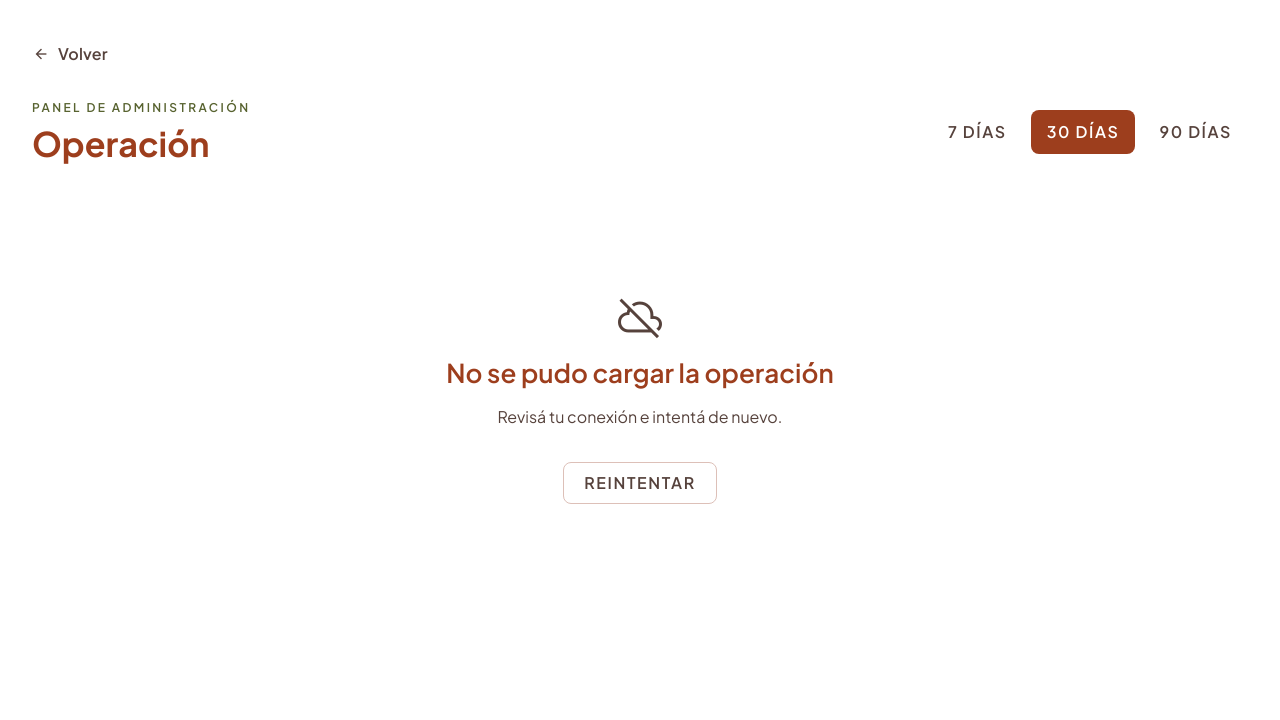
Test: AdminOperacion › estado de error de carga › Reintentar vuelve a pedir, y el fetch exitoso limpia el error
This screenshot has width=1280, height=720.
Expected: the heading "No se pudo cargar la operación" is shown, x1=446 y1=357 x2=834 y2=390
Click the button "Reintentar". click: (640, 483)
box: x1=563 y1=462 x2=717 y2=504
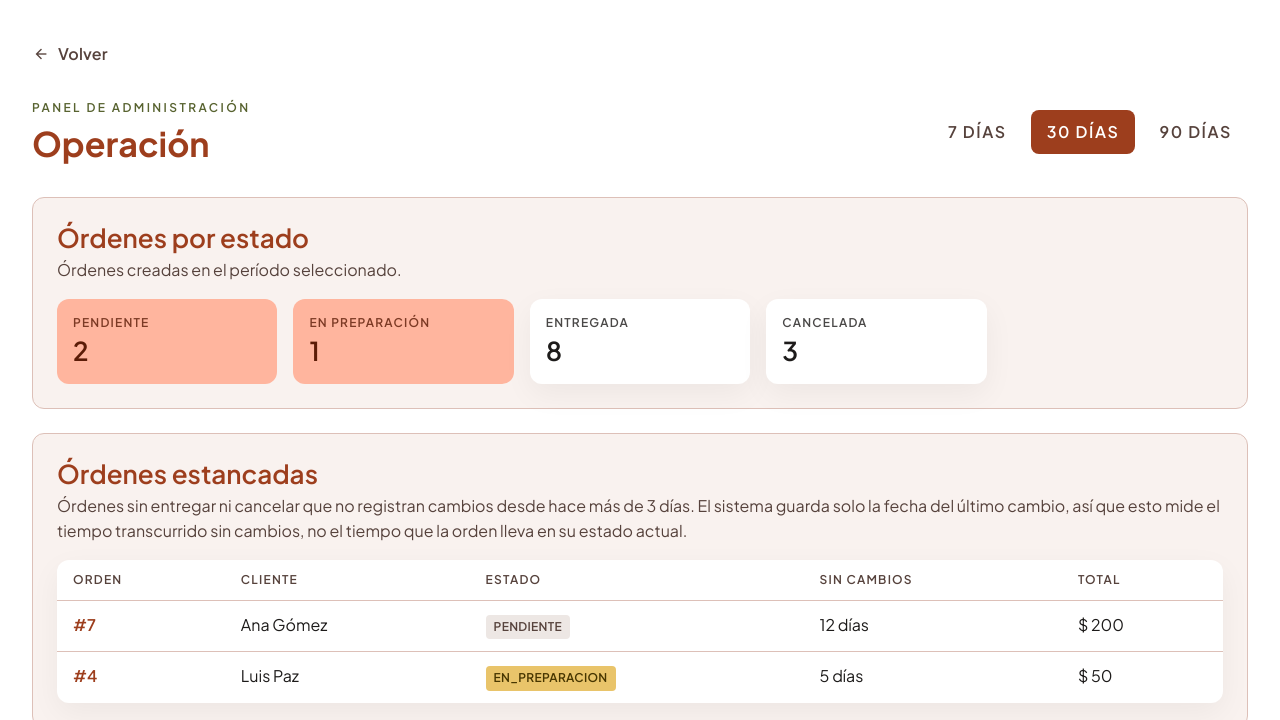
Expected: the element labelled "Órdenes por estado" is shown, x1=32 y1=197 x2=1248 y2=409
Expected: the heading "No se pudo cargar la operación" is gone
